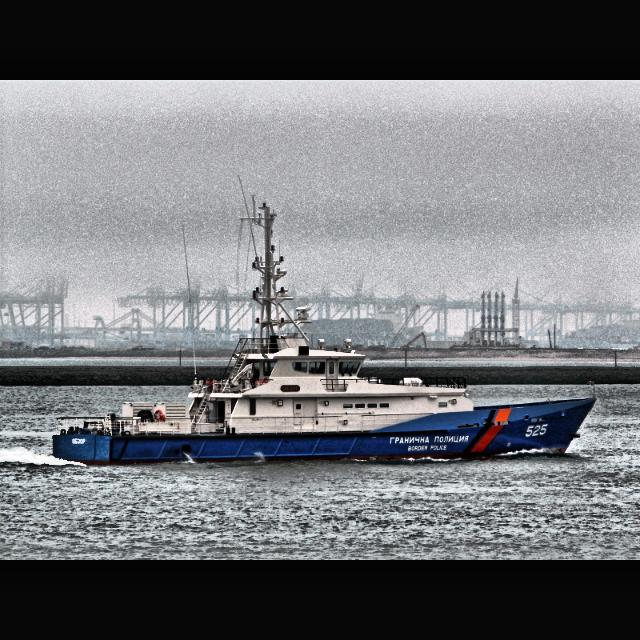patrol_vessel: (48, 190, 598, 468)
